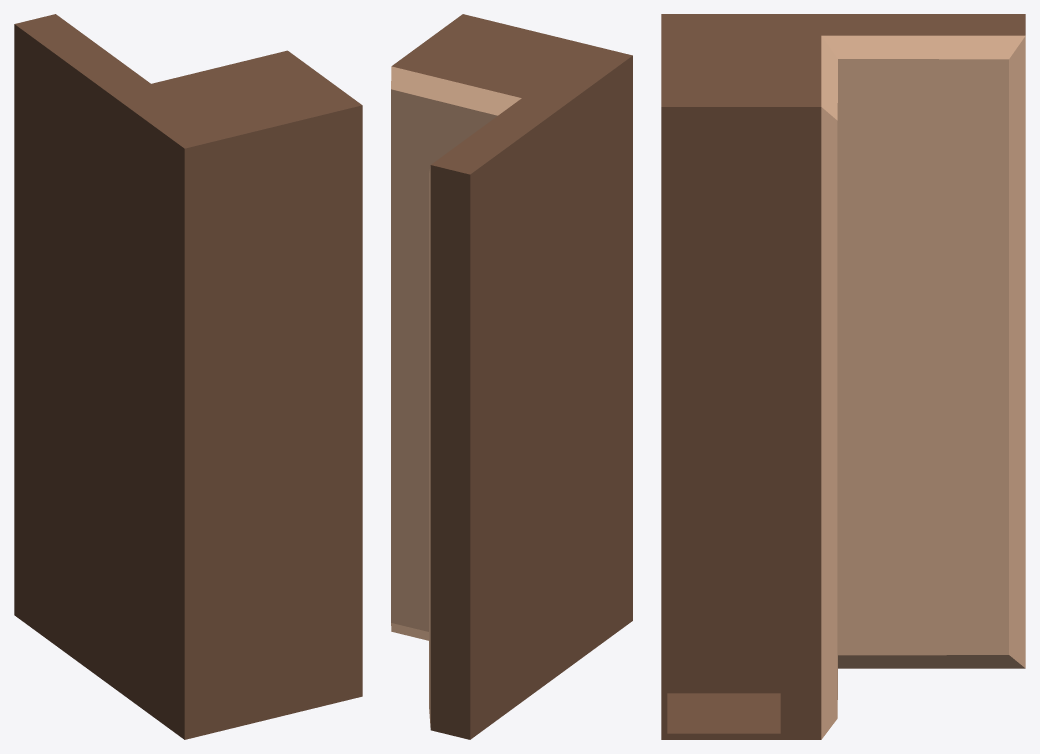
Rendered from m_Sofa.fbx.
3 renders of one model, left to right at view 1: azimuth 30°, elevation 25°; view 2: azimuth 150°, elevation 25°; view 3: azimuth 270°, elevation 25°, orthographic. The views are drawn at different scales.
Visible parts, largest first — view 1: m_sofa; view 2: m_sofa; view 3: m_sofa.
Part boxes in pixels (x1,y1,x2,y2): m_sofa: (14,14,362,739); m_sofa: (391,14,632,739); m_sofa: (661,14,1025,739).
Bounding box in the file's own units: 62.95 × 200 × 104.
